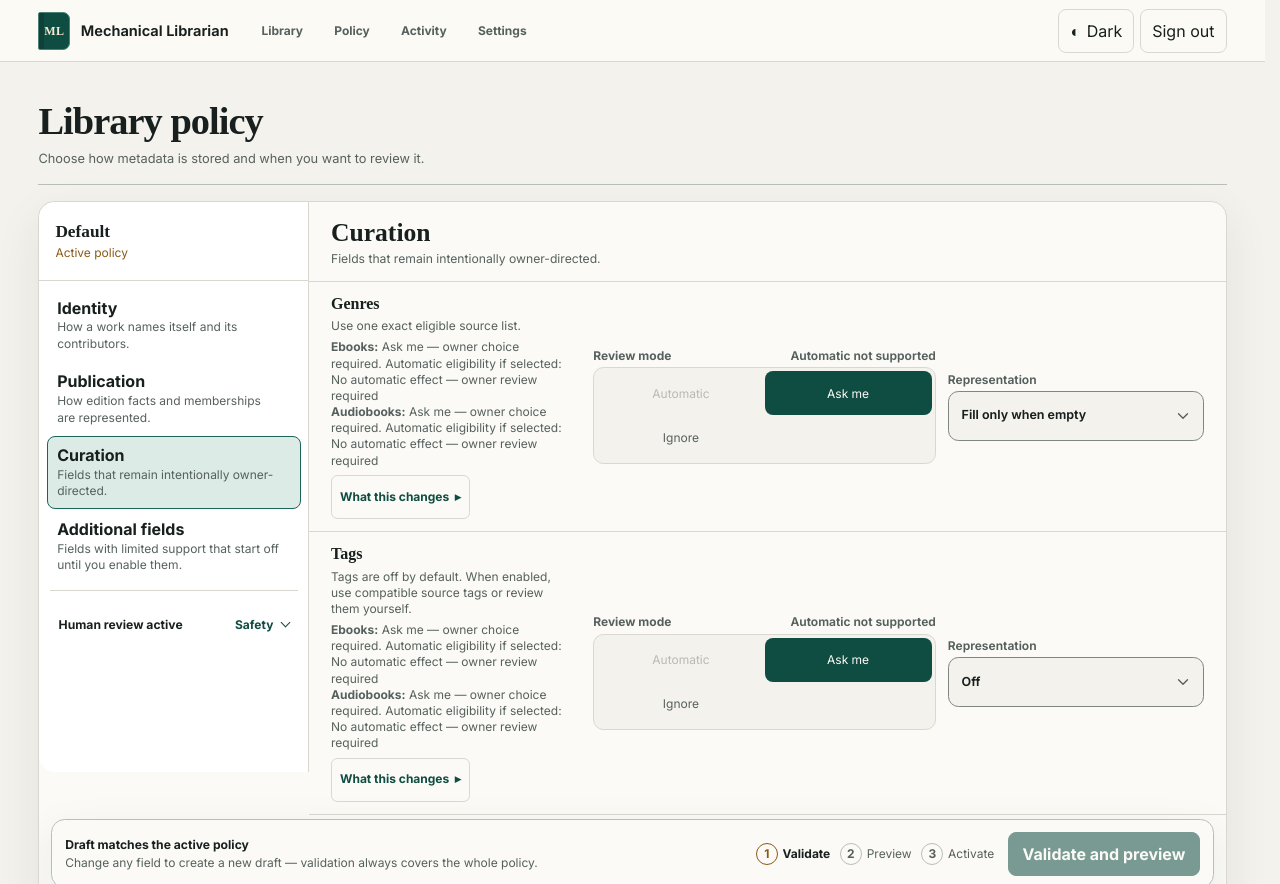
Test: Policy route › a failed snapshot save › says a snapshot that may have been saved could not be confirmed
Click the 2nd button "Ignore": [681, 704] box 597,682 -> 764,726
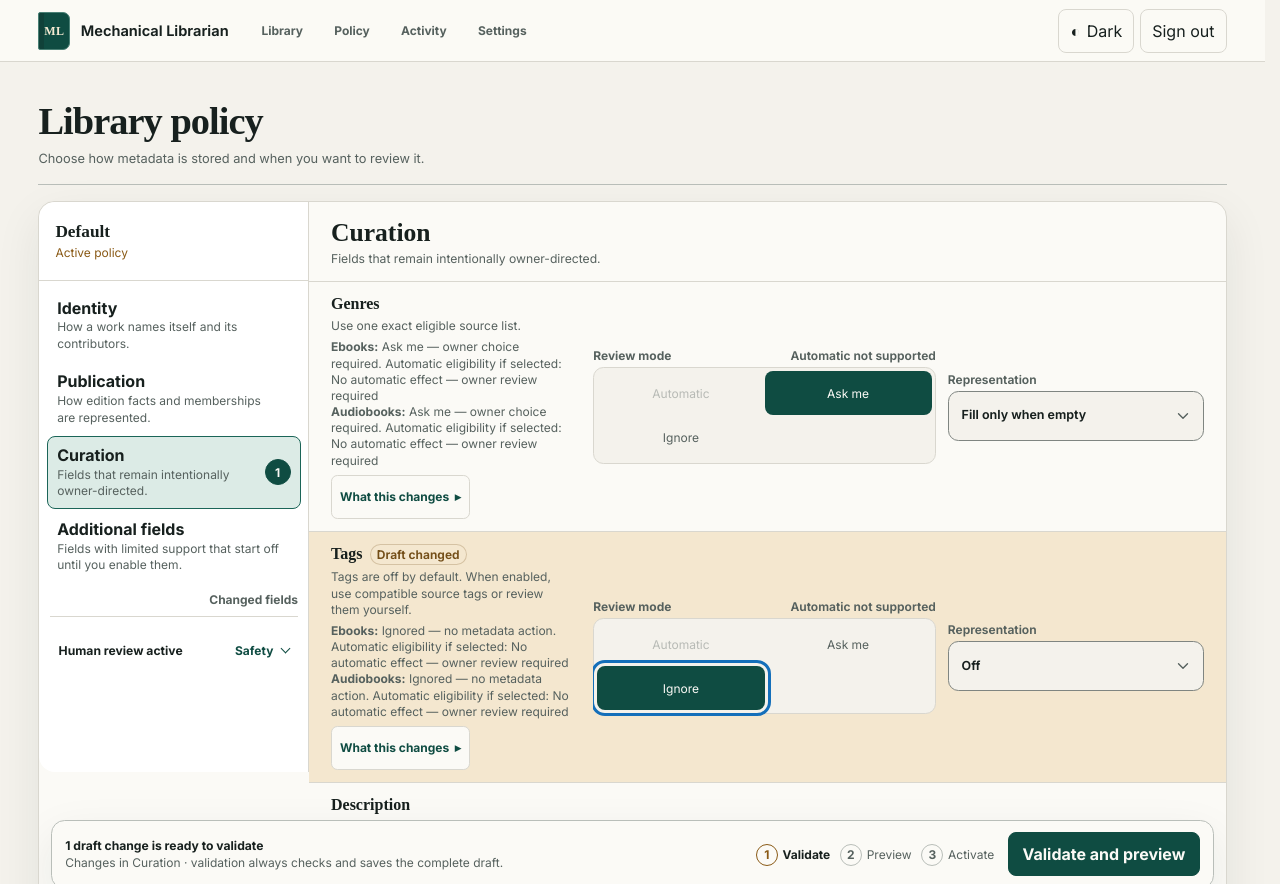
Click the button "Validate and preview": [1104, 854] box 1008,832 -> 1200,876
(page scrolled)
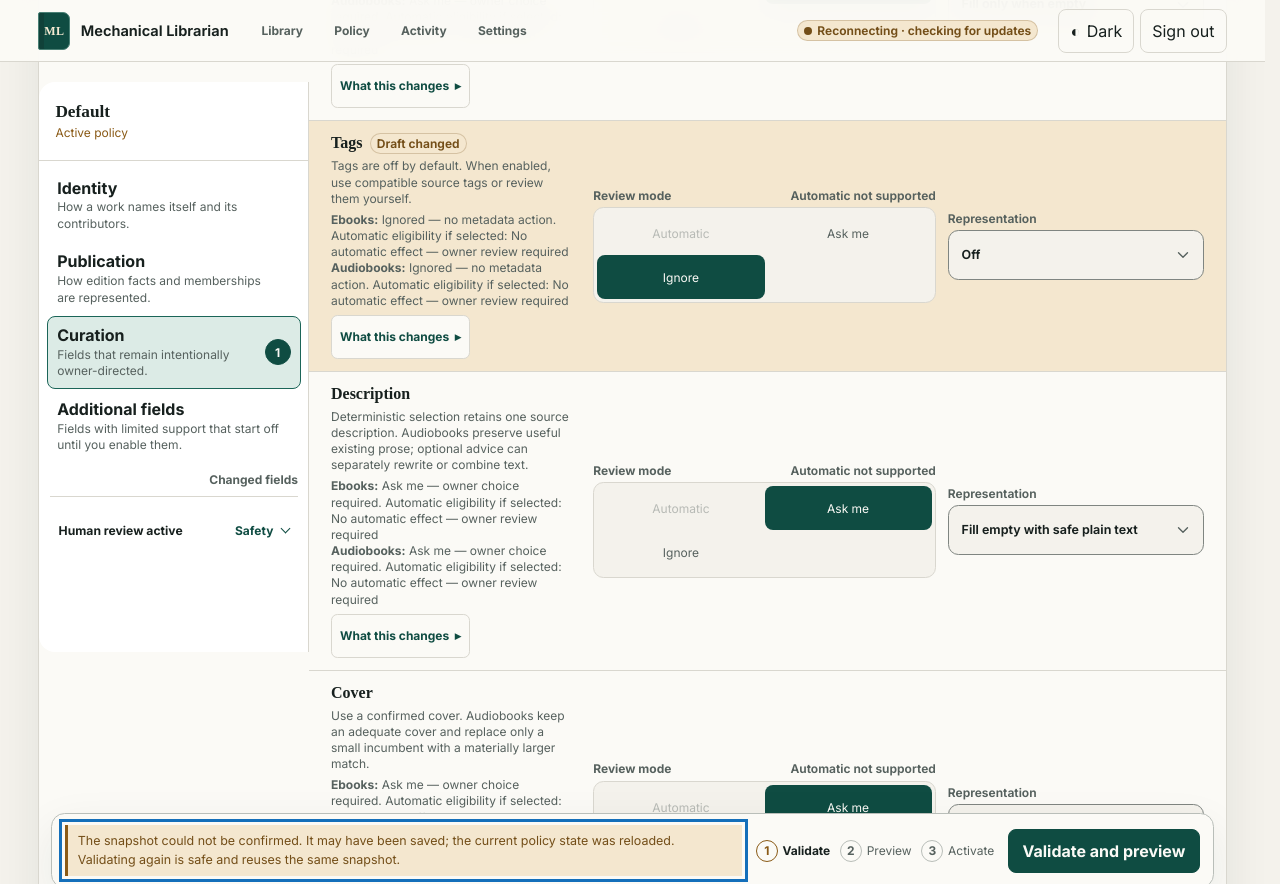
expect the text "The snapshot could not be confirmed. It may have been saved; the current policy state was reloaded. Validating again is " is shown: met, box 78,834 -> 675,867
